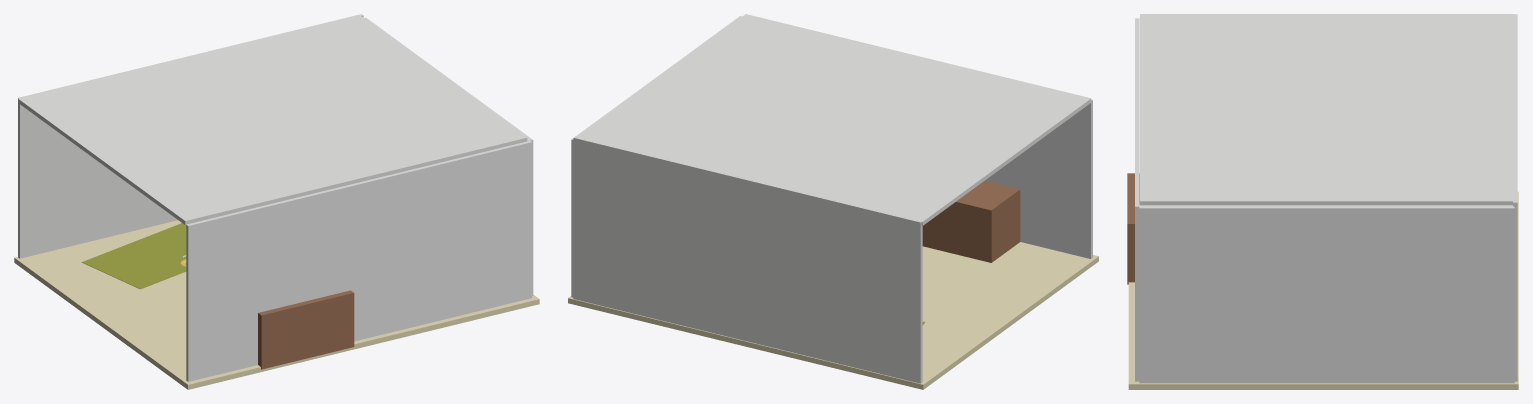
File: room_model.gltf
3 views of the same model, side by side, from view 1: azimuth 30°, elevation 25°; view 2: azimuth 150°, elevation 25°; view 3: azimuth 270°, elevation 25° (orthographic). The views are drawn at different scales.
Parts seen in each view (by area): view 1: Potted_plants.004; view 2: Potted_plants.004; view 3: Potted_plants.004.
Boxes of the visible parts, x1,y1,x2,y2 form: Potted_plants.004: [14, 14, 539, 389]; Potted_plants.004: [568, 14, 1098, 389]; Potted_plants.004: [1127, 14, 1518, 389].
Size of the model in its own units: 35.14 by 16.07 by 30.18.
27 materials, 3 textured.
